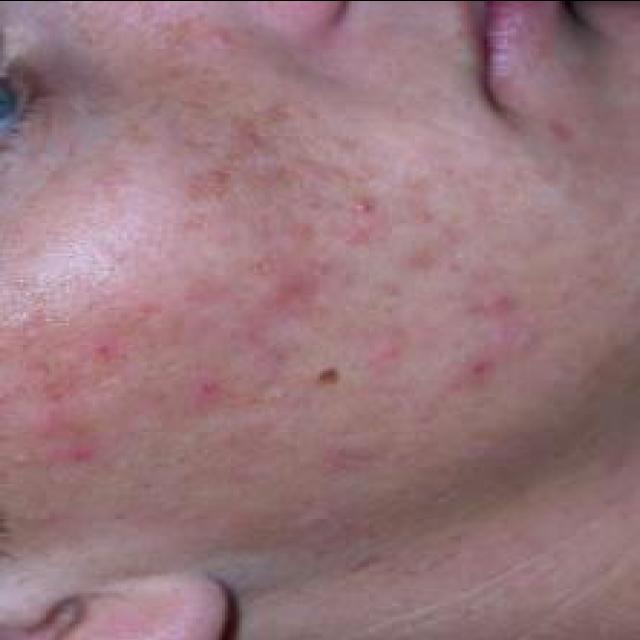Acne: (42, 444, 98, 466), (457, 354, 497, 382), (186, 375, 226, 401), (340, 194, 380, 218)
